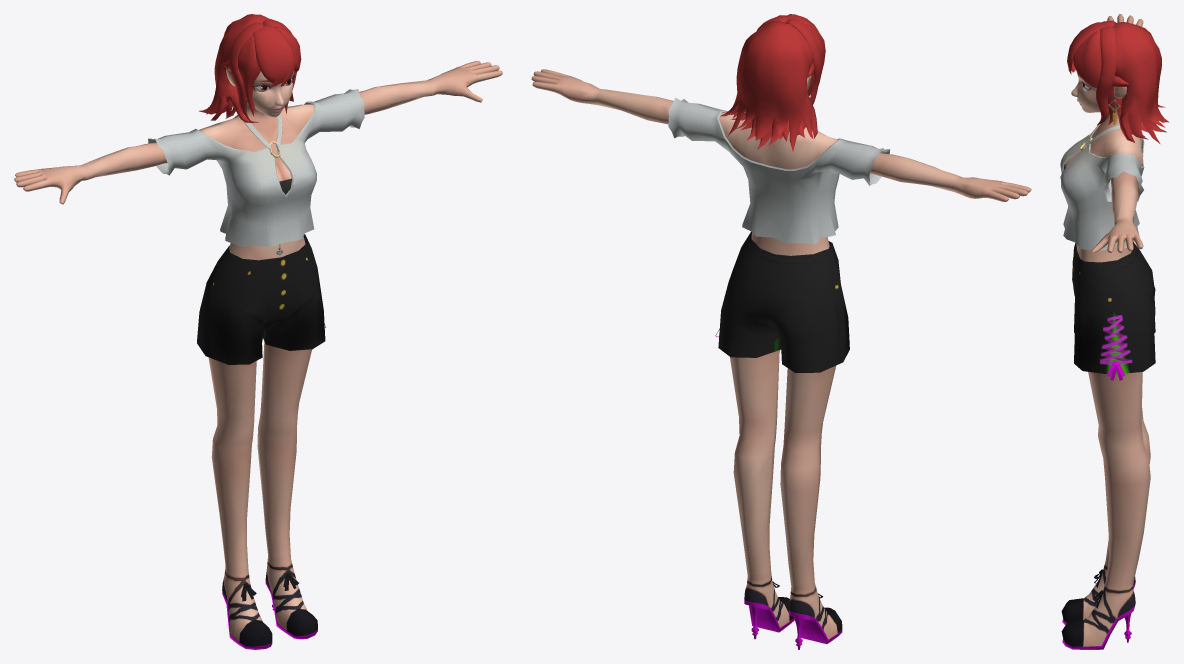
File: Women_model_done.fbx
The picture shows the model from 3 angles, left to right: view 1: azimuth 30°, elevation 25°; view 2: azimuth 150°, elevation 25°; view 3: azimuth 270°, elevation 25°; orthographic projection. The views are drawn at different scales.
Parts seen in each view (by area): view 1: tops, Upper_body, pants, L_leg, R_leg, L_back_tale_hair1, front_branch, L_side_branch, L_side_hair; view 2: pants, tops, Upper_body, L_leg, R_leg, L_back_tale_hair1, L_side_hair; view 3: L_leg, pants, tops, Upper_body, L_back_tale_hair1, R_side_hair, R_side_branch, R_leg, front_branch, R_ear_branch.
Part boxes in pixels (left/top/right/bottom): tops: left=148, top=89, right=364, bottom=246; Upper_body: left=14, top=61, right=502, bottom=260; pants: left=197, top=234, right=325, bottom=364; L_leg: left=257, top=342, right=317, bottom=639; R_leg: left=208, top=357, right=272, bottom=649; L_back_tale_hair1: left=199, top=14, right=293, bottom=122; front_branch: left=252, top=25, right=294, bottom=86; L_side_branch: left=220, top=35, right=260, bottom=116; L_side_hair: left=229, top=22, right=263, bottom=122; pants: left=718, top=232, right=849, bottom=372; tops: left=668, top=97, right=890, bottom=244; Upper_body: left=531, top=69, right=1031, bottom=255; L_leg: left=730, top=350, right=794, bottom=632; R_leg: left=780, top=365, right=842, bottom=643; L_back_tale_hair1: left=720, top=21, right=817, bottom=151; L_side_hair: left=786, top=18, right=821, bottom=104; L_leg: left=1061, top=372, right=1150, bottom=649; pants: left=1072, top=242, right=1155, bottom=374; tops: left=1060, top=124, right=1144, bottom=251; Upper_body: left=1064, top=14, right=1143, bottom=262; L_back_tale_hair1: left=1112, top=22, right=1169, bottom=143; R_side_hair: left=1096, top=27, right=1116, bottom=125; R_side_branch: left=1073, top=30, right=1131, bottom=88; R_leg: left=1061, top=408, right=1150, bottom=624; front_branch: left=1067, top=22, right=1106, bottom=74; R_ear_branch: left=1108, top=86, right=1115, bottom=124.
Bounding box in the file's own units: 134 × 161 × 26.18.
